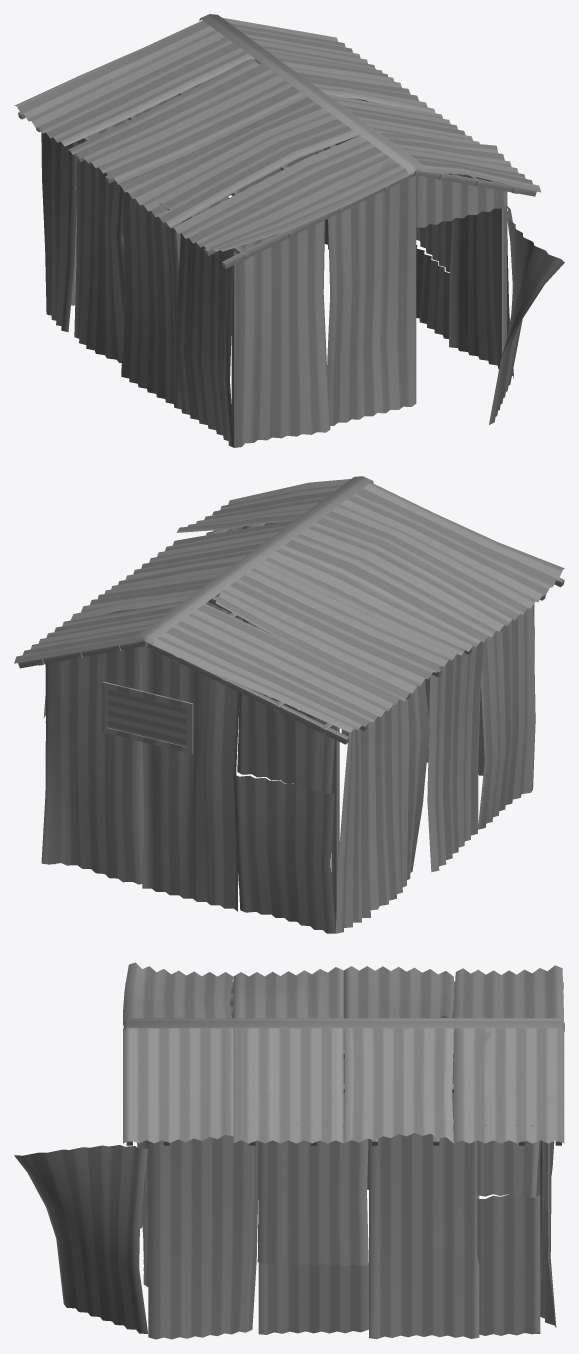
File: barrack.glb
3 renders of one model, top to bottom at view 1: azimuth 30°, elevation 25°; view 2: azimuth 150°, elevation 25°; view 3: azimuth 270°, elevation 25°, orthographic. The views are drawn at different scales.
Visible parts, largest first — view 1: barrack_01; view 2: barrack_01; view 3: barrack_01.
Boxes of the visible parts, left/top/right/bottom form: barrack_01: left=14, top=14, right=564, bottom=447; barrack_01: left=14, top=476, right=564, bottom=933; barrack_01: left=14, top=962, right=564, bottom=1339.
Bounding box in the file's own units: 321 × 235 × 450.
1 material, 1 textured.
